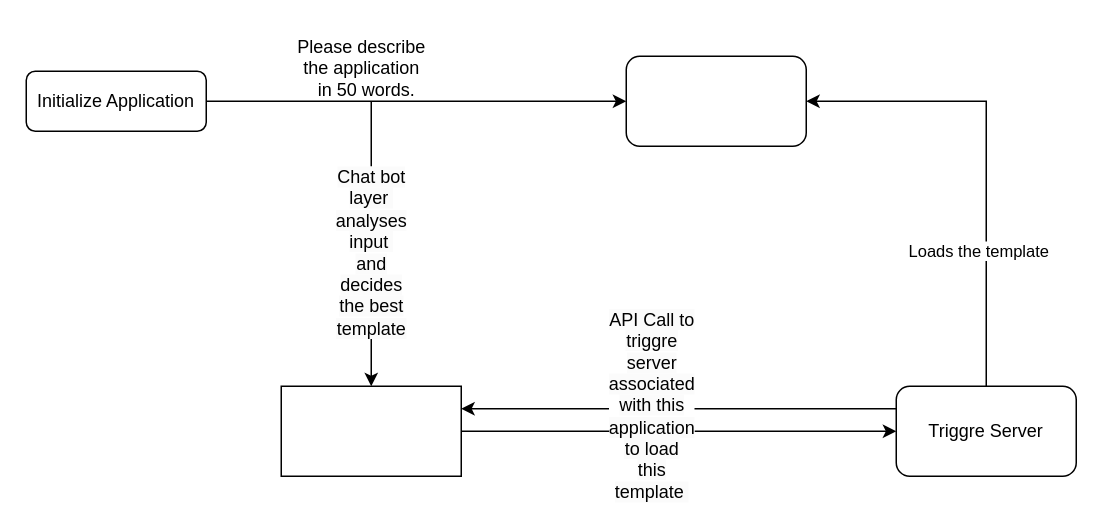
Image size: 1103x528. Some labels were removed from this diagram. The shapes that lost their labels are listed below. From the top down, each one's box as (x1, y1, x2, y2) in pixels, then its label:
(625, 55, 806, 146): Application
(280, 385, 461, 476): Chat bot
